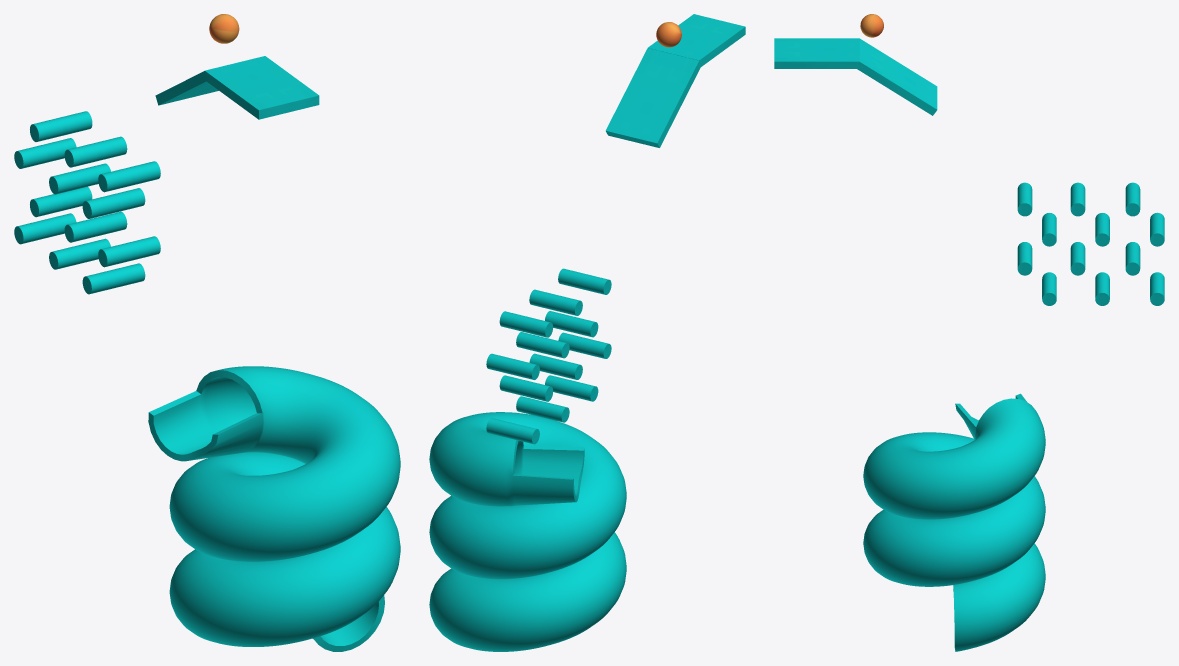
3 renders of one model, left to right at view 1: azimuth 30°, elevation 25°; view 2: azimuth 150°, elevation 25°; view 3: azimuth 270°, elevation 25°, orthographic. The views are drawn at different scales.
Visible parts, largest first — view 1: pHelix2, group4, pCube2, pSphere2; view 2: pHelix2, group4, pCube2, pSphere2; view 3: pHelix2, group4, pCube2.
Boxes of the visible parts, <box> form: pHelix2: <box>148,366,400,651</box>; group4: <box>14,111,160,294</box>; pCube2: <box>155,56,319,119</box>; pSphere2: <box>209,14,239,43</box>; pHelix2: <box>429,412,626,651</box>; group4: <box>486,268,611,444</box>; pCube2: <box>605,14,745,147</box>; pSphere2: <box>656,22,681,47</box>; pHelix2: <box>863,393,1045,651</box>; group4: <box>1017,182,1164,305</box>; pCube2: <box>774,38,937,115</box>.
Size of the model in its own units: 3 by 8.54 by 5.34.
Materials: 3 (3 with a texture image).
